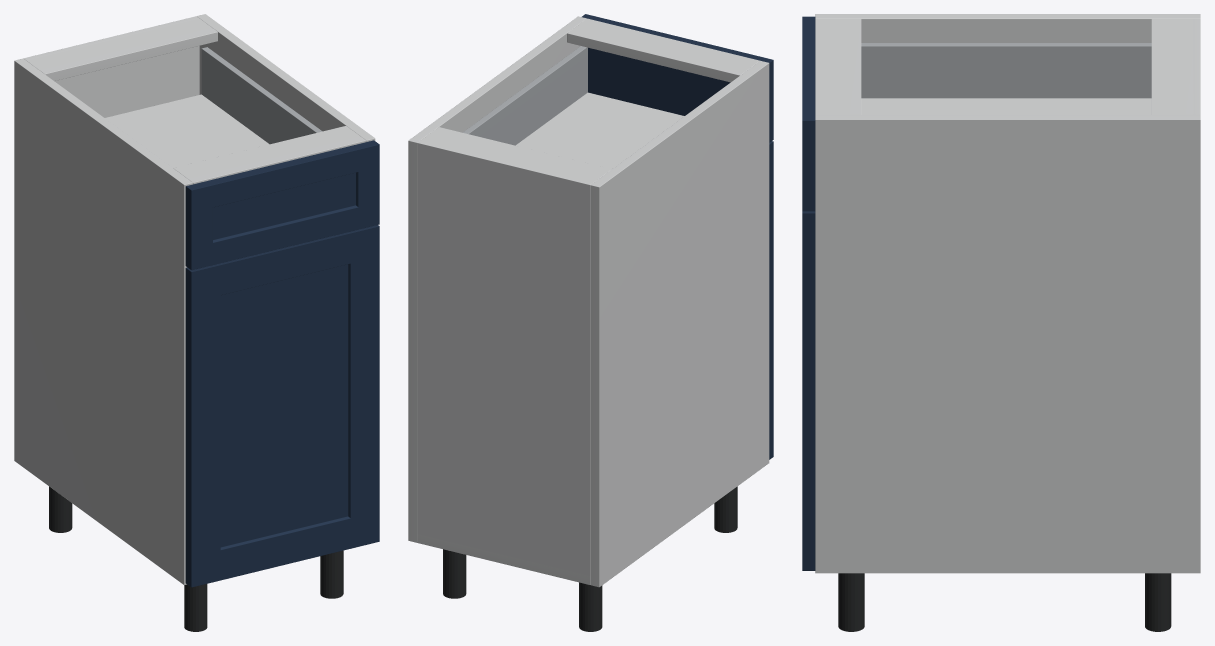
The model's file is oppein-ply-bss-b15.glb.
3 views of the same model, side by side, from view 1: azimuth 30°, elevation 25°; view 2: azimuth 150°, elevation 25°; view 3: azimuth 270°, elevation 25° (orthographic). The views are drawn at different scales.
Visible parts, largest first — view 1: Cabinet side, Door, Drawer front, Cabinet back, Drawer floor, Drawer side.001, Top support rail, Cabinet side.001, Top support rail.001, Adjustable foot.001, Adjustable foot.003, Adjustable foot; view 2: Cabinet side, Cabinet back, Cabinet side.001, Drawer floor, Drawer front, Drawer side.001, Top support rail.001, Top support rail, Cabinet bottom, Door, Adjustable foot, Adjustable foot.002 (+1 smaller); view 3: Cabinet side.001, Drawer side, Cabinet side, Door, Drawer floor, Top support rail.001, Top support rail, Drawer front, Adjustable foot.002, Adjustable foot.003, Cabinet back.
Part boxes in pixels (box(x1,y1,x2,y2)): Cabinet side: box(14, 58, 192, 585); Door: box(185, 225, 379, 587); Drawer front: box(185, 140, 379, 270); Cabinet back: box(23, 16, 199, 117); Drawer floor: box(105, 94, 269, 167); Drawer side.001: box(201, 47, 322, 144); Top support rail: box(26, 18, 217, 80); Cabinet side.001: box(197, 14, 375, 141); Top support rail.001: box(173, 126, 366, 184); Adjustable foot.001: box(184, 584, 207, 631); Adjustable foot.003: box(320, 550, 343, 598); Adjustable foot: box(49, 486, 72, 532); Cabinet side: box(590, 61, 769, 587); Cabinet back: box(417, 140, 593, 584); Cabinet side.001: box(408, 16, 586, 542); Drawer floor: box(516, 92, 684, 168); Drawer front: box(582, 14, 773, 142); Drawer side.001: box(463, 46, 587, 145); Top support rail.001: box(567, 18, 759, 82); Top support rail: box(421, 127, 611, 183); Cabinet bottom: box(417, 534, 590, 584); Door: box(769, 141, 773, 459); Adjustable foot: box(579, 582, 602, 631); Adjustable foot.002: box(443, 549, 466, 598); Cabinet side.001: box(815, 115, 1200, 573); Drawer side: box(861, 43, 1151, 98); Cabinet side: box(815, 14, 1200, 42); Door: box(802, 211, 815, 570); Drawer floor: box(861, 98, 1151, 114); Top support rail.001: box(815, 19, 861, 114); Top support rail: box(1151, 19, 1193, 114); Drawer front: box(802, 16, 815, 211); Adjustable foot.002: box(1145, 573, 1171, 631); Adjustable foot.003: box(838, 573, 864, 631); Cabinet back: box(1193, 19, 1200, 114).
Bounding box in the file's own units: 0.381 × 0.8763 × 0.6064.
